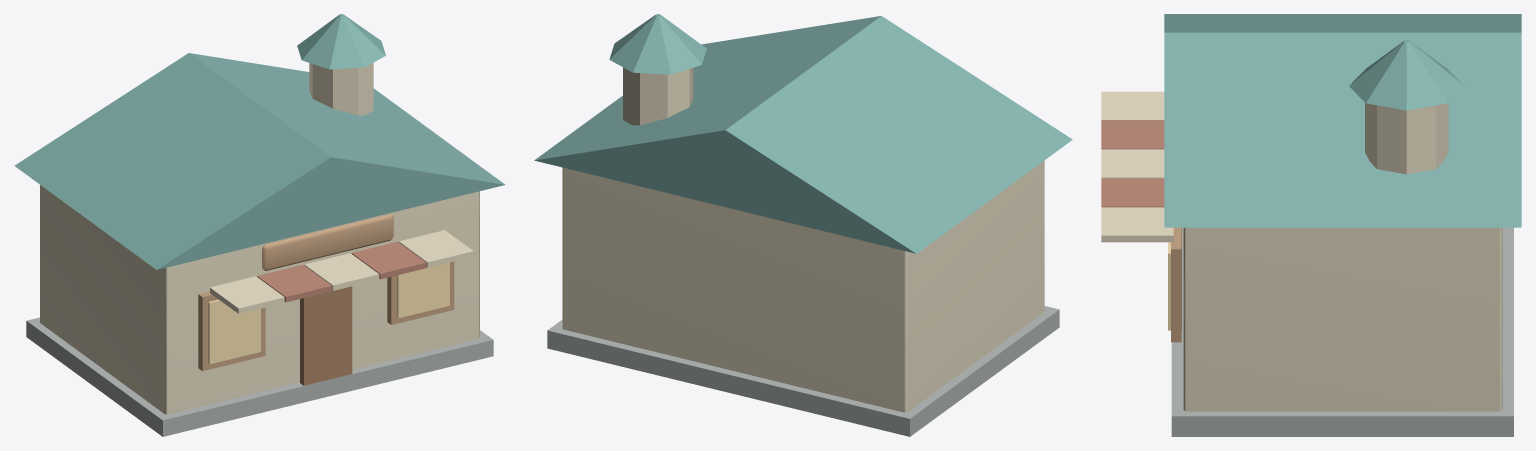
Rendered from tide-tea-house.glb.
3 views of the same model, side by side, from view 1: azimuth 30°, elevation 25°; view 2: azimuth 150°, elevation 25°; view 3: azimuth 270°, elevation 25° (orthographic). The views are drawn at different scales.
Parts seen in each view (by area): view 1: Tide tea house roof, Tide tea house shop walls, Tide tea house plinth, Shop door, Store sign, Cupola cap, Corner cupola, Display glass, Display glass.001, Striped shop canopy, Striped shop canopy.003, Striped shop canopy.001 (+4 smaller); view 2: Tide tea house shop walls, Tide tea house roof, Tide tea house plinth, Cupola cap, Corner cupola; view 3: Tide tea house roof, Tide tea house shop walls, Tide tea house plinth, Corner cupola, Cupola cap, Striped shop canopy.004, Striped shop canopy.001, Striped shop canopy.002, Striped shop canopy.003, Striped shop canopy, Display window frame.001.
Boxes of the visible parts, left/top/right/bottom form: Tide tea house roof: left=14, top=53, right=505, bottom=269; Tide tea house shop walls: left=40, top=185, right=479, bottom=414; Tide tea house plinth: left=26, top=317, right=493, bottom=436; Shop door: left=300, top=286, right=352, bottom=385; Store sign: left=262, top=214, right=393, bottom=270; Cupola cap: left=297, top=14, right=385, bottom=69; Corner cupola: left=309, top=63, right=373, bottom=115; Display glass: left=208, top=299, right=260, bottom=364; Display glass.001: left=397, top=262, right=449, bottom=318; Striped shop canopy: left=210, top=276, right=284, bottom=313; Striped shop canopy.003: left=351, top=241, right=426, bottom=279; Striped shop canopy.001: left=257, top=265, right=331, bottom=302; Tide tea house shop walls: left=562, top=160, right=1044, bottom=412; Tide tea house roof: left=534, top=16, right=1072, bottom=253; Tide tea house plinth: left=547, top=306, right=1059, bottom=436; Cupola cap: left=609, top=14, right=706, bottom=74; Corner cupola: left=623, top=67, right=693, bottom=125; Tide tea house roof: left=1164, top=14, right=1521, bottom=227; Tide tea house shop walls: left=1183, top=227, right=1502, bottom=411; Tide tea house plinth: left=1171, top=227, right=1513, bottom=436; Corner cupola: left=1365, top=102, right=1448, bottom=174; Cupola cap: left=1349, top=40, right=1463, bottom=110; Striped shop canopy.004: left=1101, top=207, right=1173, bottom=242; Striped shop canopy.001: left=1101, top=120, right=1164, bottom=149; Striped shop canopy.002: left=1101, top=149, right=1164, bottom=178; Striped shop canopy.003: left=1101, top=178, right=1164, bottom=207; Striped shop canopy: left=1101, top=91, right=1164, bottom=120; Display window frame.001: left=1171, top=227, right=1181, bottom=342.
Bounding box in the file's own units: 6.65 × 5.23 × 5.52.
